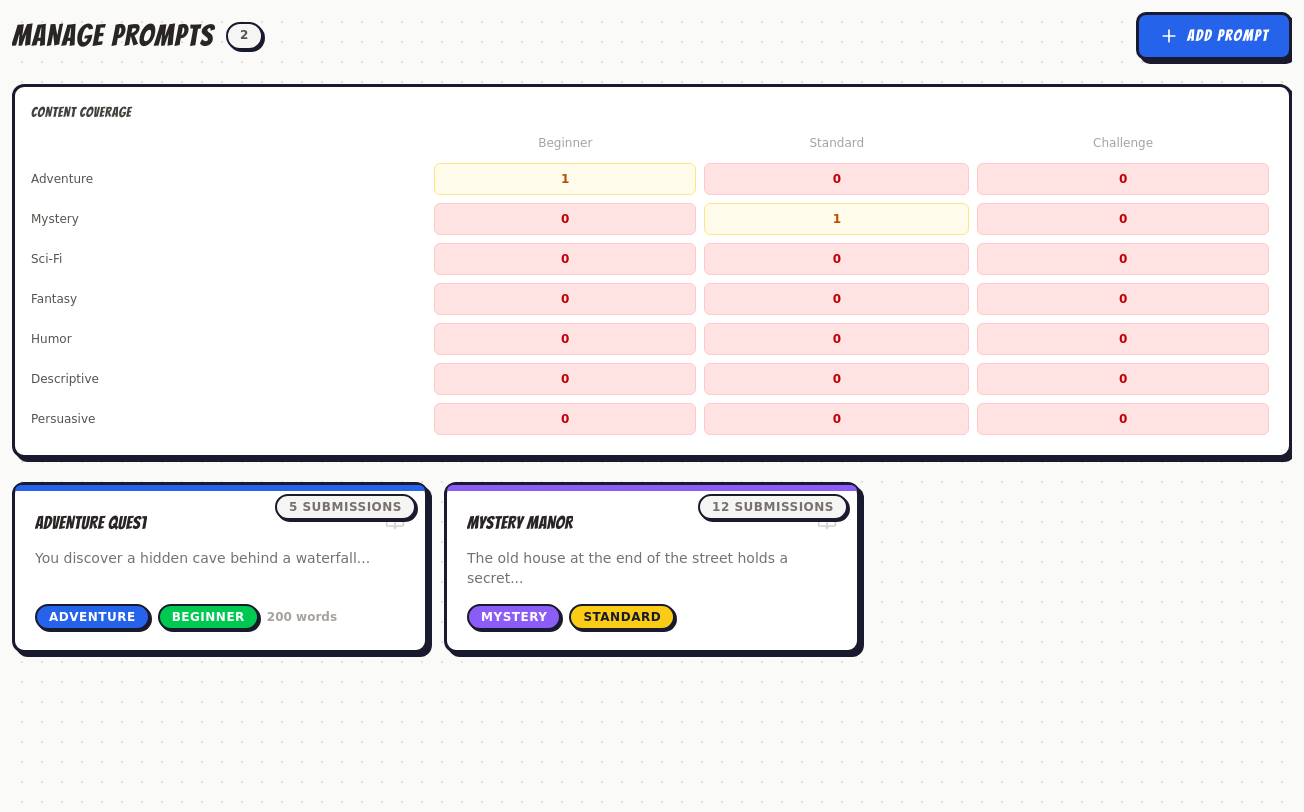
Test: AdminPrompts › Heatmap › filters prompts when heatmap cell clicked
Expected: the heading "Adventure Quest" is shown, [35,511,148,536]
# Click adventure/beginner cell — should filter to just p1
Click the button named "adventure beginner: 1 prompts": (565, 179) [434,163,696,195]
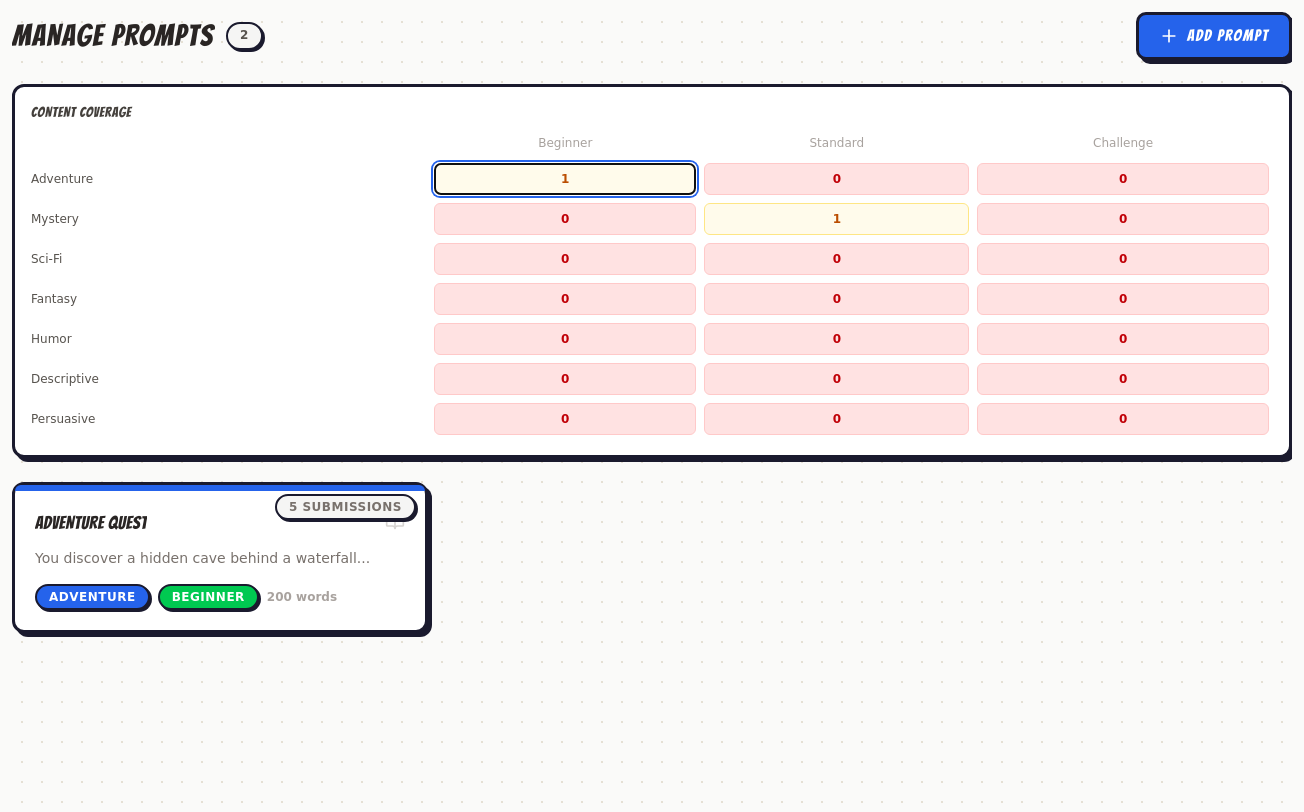
Expected: the heading "Adventure Quest" is shown, [35,511,148,536]
Expected: the heading "Mystery Manor" is gone
